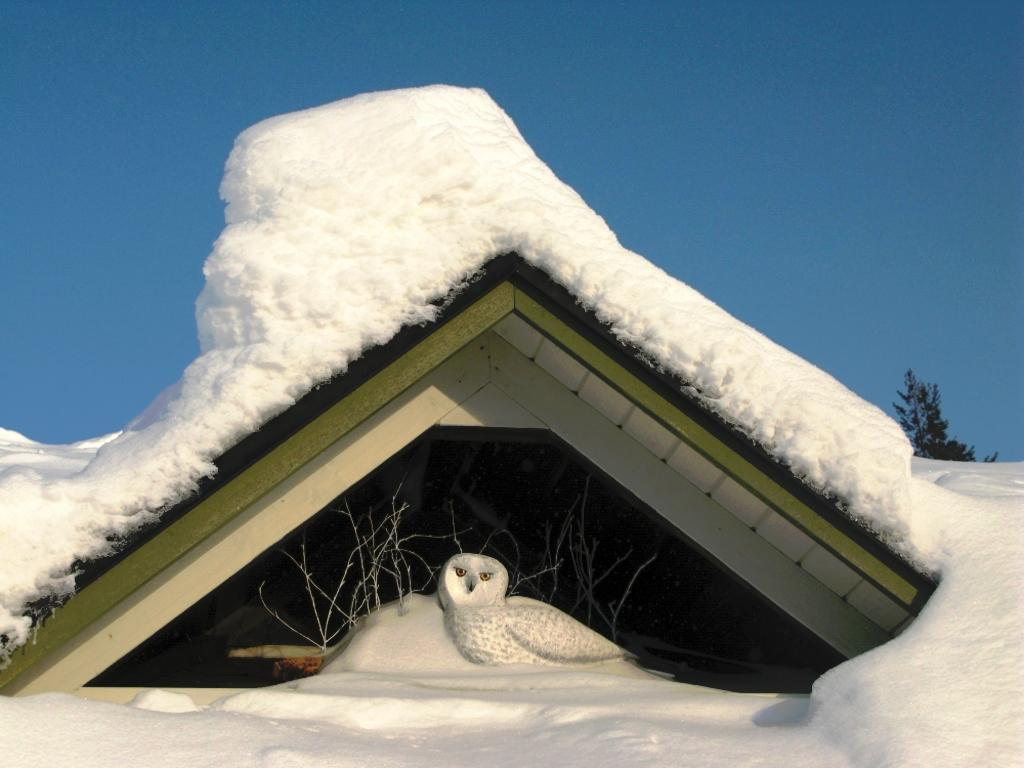Owl: (438, 550, 643, 666)
